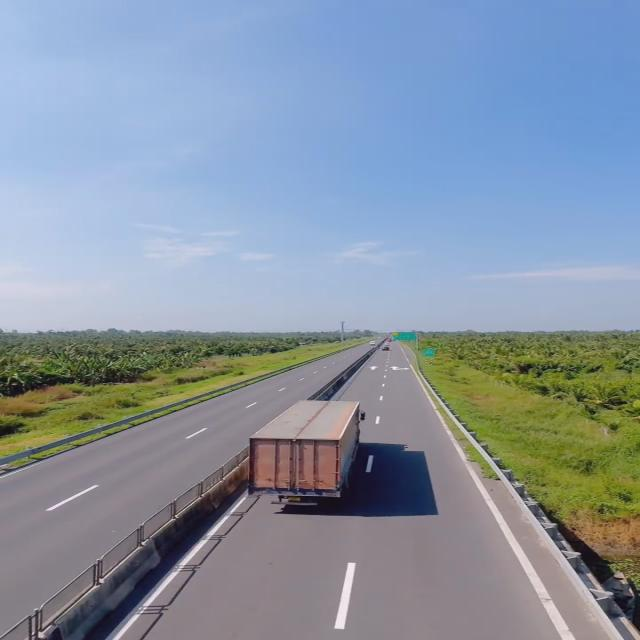truck: (242, 398, 370, 508)
